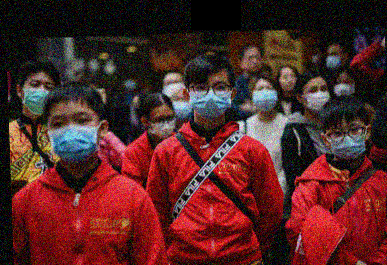with_mask: (46, 109, 100, 161), (188, 78, 233, 120), (324, 119, 367, 159), (22, 77, 57, 116), (302, 83, 330, 113), (148, 112, 176, 138), (252, 84, 279, 110), (171, 92, 194, 121), (160, 76, 186, 98), (333, 78, 355, 99), (322, 49, 343, 68)
without_mask: (243, 53, 262, 72), (279, 71, 297, 90)
